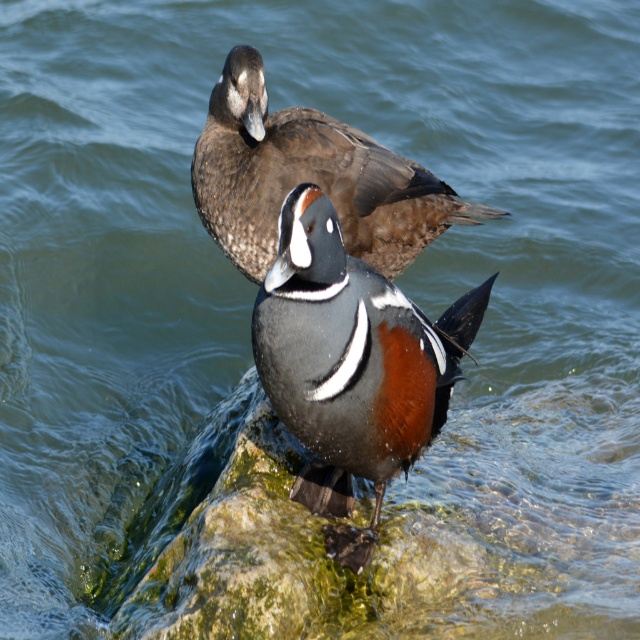Duck: (247, 180, 494, 577), (186, 45, 499, 315)
